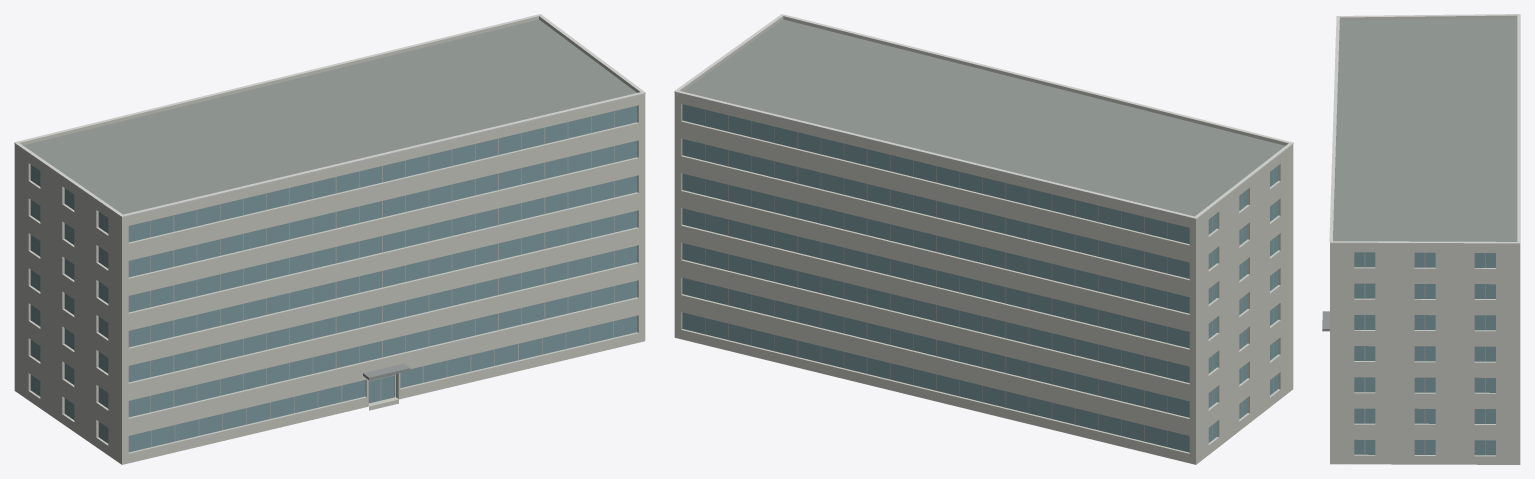
The picture shows the model from 3 angles, left to right: view 1: azimuth 30°, elevation 25°; view 2: azimuth 150°, elevation 25°; view 3: azimuth 270°, elevation 25°; orthographic projection. The views are drawn at different scales.
Visible parts, largest first — view 1: engineering2__wall, engineering2__glass, engineering2__roof, engineering2__parapet, engineering2__trim, engineering2__frame; view 2: engineering2__wall, engineering2__glass, engineering2__roof, engineering2__parapet, engineering2__trim, engineering2__frame; view 3: engineering2__roof, engineering2__wall, engineering2__glass, engineering2__trim, engineering2__parapet, engineering2__frame.
Boxes of the visible parts, box(x1,y1,x2,y2) form: engineering2__wall: box(14, 96, 645, 464); engineering2__glass: box(30, 105, 637, 452); engineering2__roof: box(15, 19, 643, 464); engineering2__parapet: box(14, 16, 645, 219); engineering2__trim: box(14, 14, 645, 217); engineering2__frame: box(36, 111, 614, 447); engineering2__wall: box(674, 94, 1293, 464); engineering2__glass: box(682, 104, 1278, 452); engineering2__roof: box(675, 19, 1290, 464); engineering2__parapet: box(674, 16, 1293, 221); engineering2__trim: box(674, 14, 1293, 219); engineering2__frame: box(705, 109, 1273, 447); engineering2__roof: box(1330, 18, 1519, 464); engineering2__wall: box(1330, 245, 1520, 464); engineering2__glass: box(1354, 252, 1495, 455); engineering2__trim: box(1329, 14, 1520, 244); engineering2__parapet: box(1330, 15, 1520, 246); engineering2__frame: box(1364, 252, 1485, 455).
Bounding box in the file's own units: 56.7 × 25.95 × 20.74.
